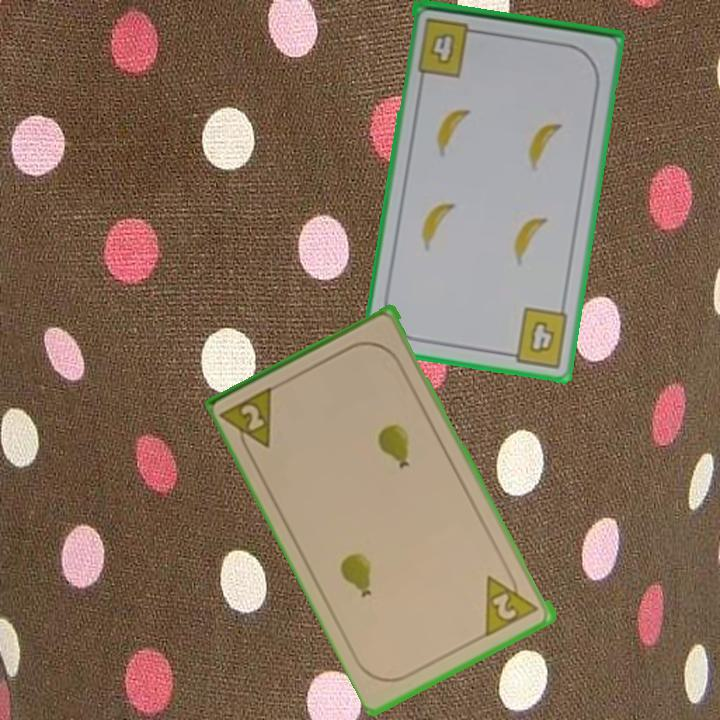2p: (219, 382, 280, 460), (481, 564, 542, 639)
4b: (501, 304, 572, 371), (414, 14, 484, 80)
